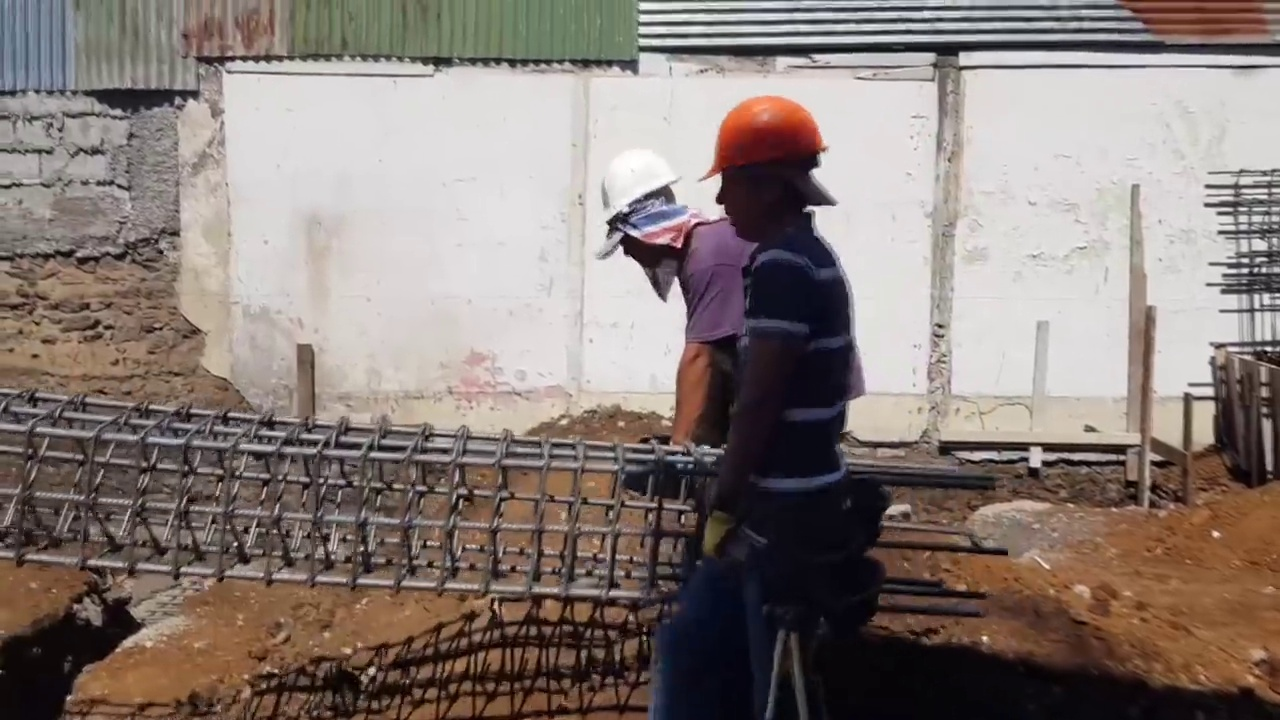helmet: (700, 93, 828, 183), (598, 154, 678, 225)
helmet-on: (701, 92, 838, 241), (594, 147, 696, 267)
person: (662, 93, 876, 608), (591, 143, 763, 489)
